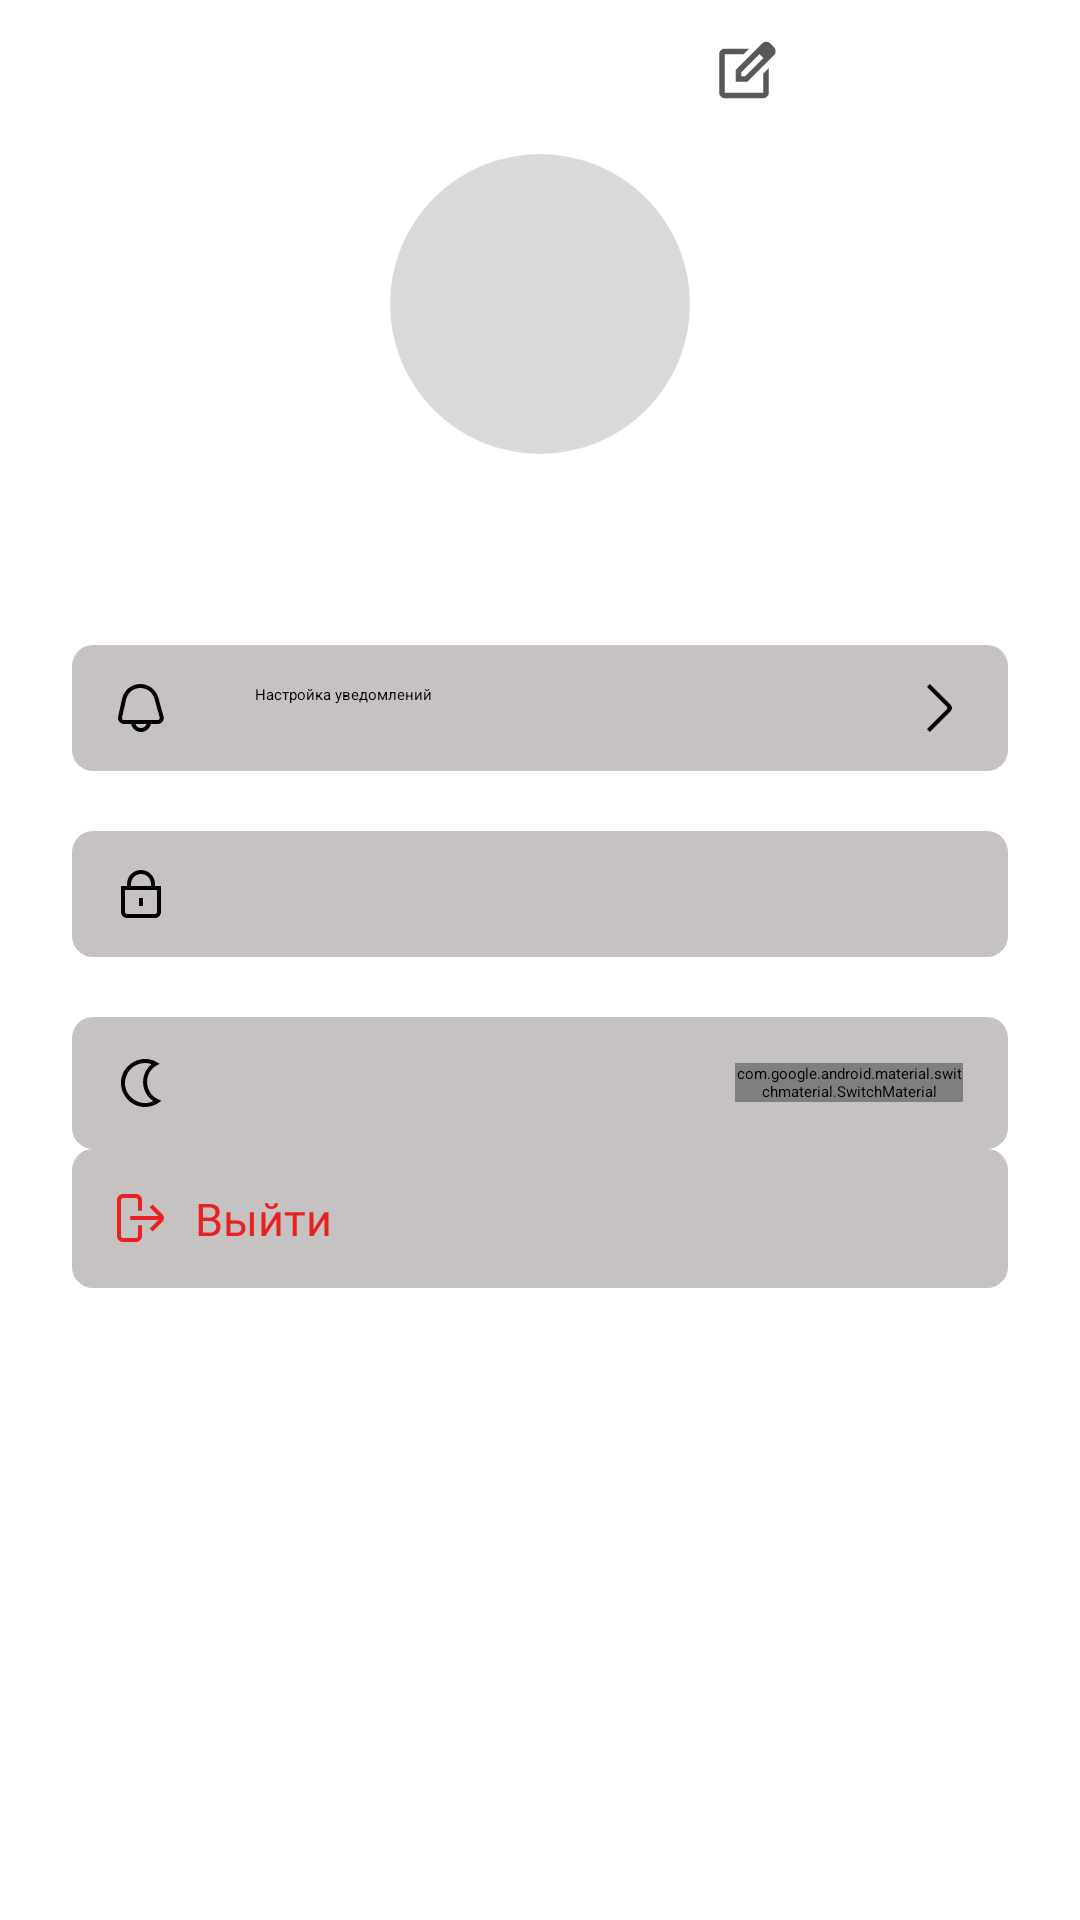

Locate icon controls on the screen. Image size 1080 x 1920, boxes as (x1, y1, x2, y2).
lock: (121, 870, 161, 918)
moon: (121, 1059, 161, 1107)
